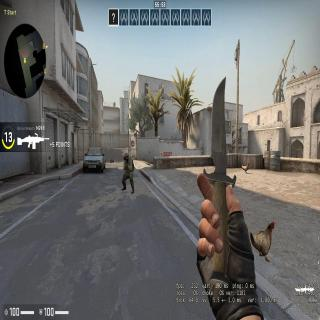CT-Body: (122, 150, 135, 188)
CT-Head: (124, 153, 129, 160)
